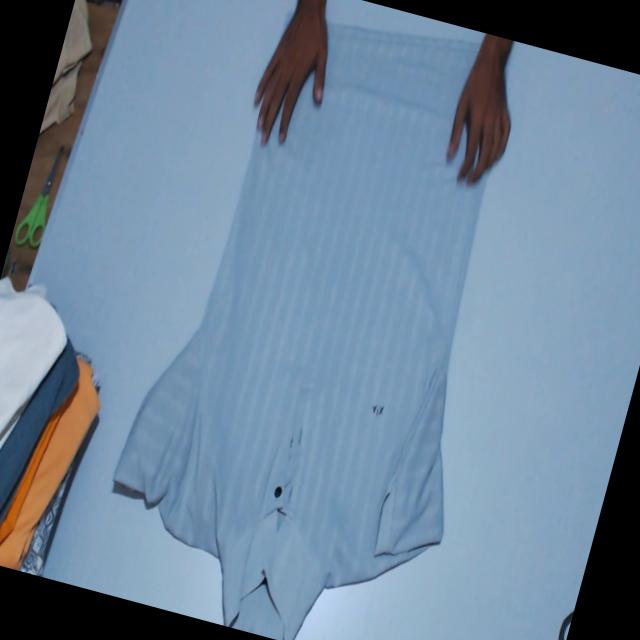new-garment: (115, 25, 481, 640)
